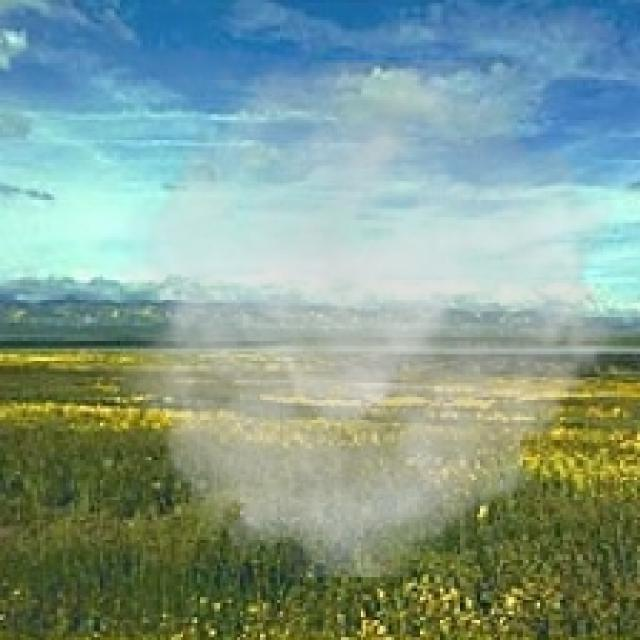smoke: (106, 60, 634, 577)
